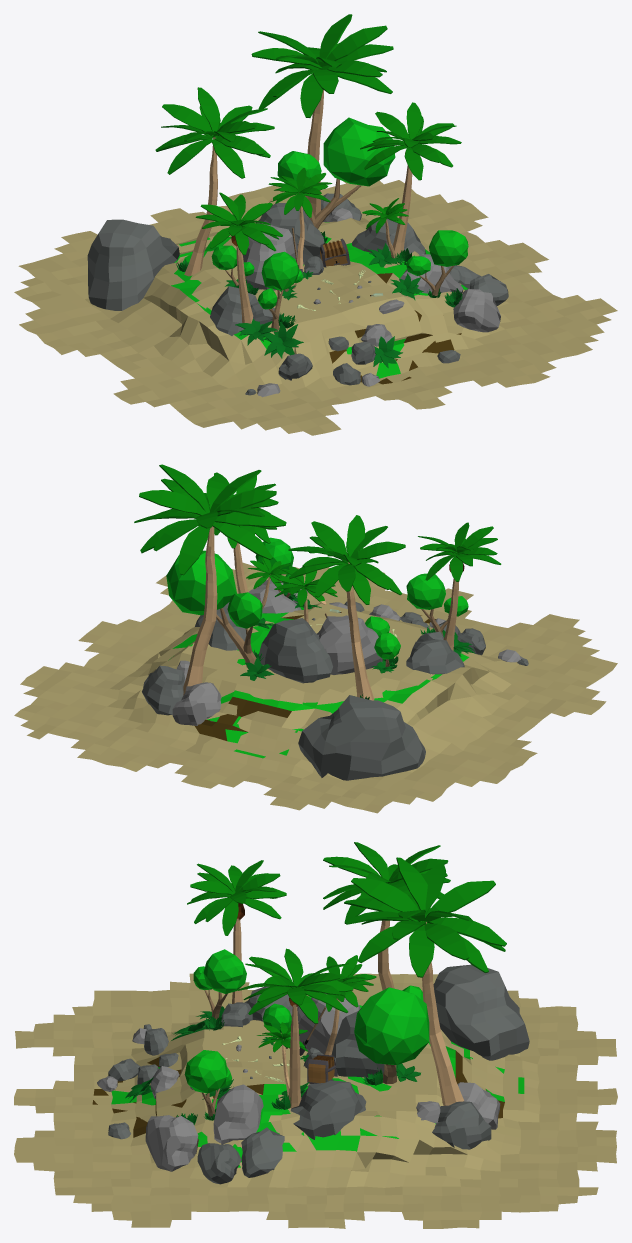
The model's file is island2.glb.
3 renders of one model, top to bottom at view 1: azimuth 30°, elevation 25°; view 2: azimuth 150°, elevation 25°; view 3: azimuth 270°, elevation 25°, orthographic. The views are drawn at different scales.
Parts seen in each view (by area): view 1: sea, palm3, Cube.007, palm4, fa.003, palm5, palm, palm2.001, fa.001, fa, Cube.009, Cube.004 (+10 smaller); view 2: sea, palm3, Cube.007, palm4, fa.003, Cube.004, palm, Cube.011, fa, Cube.006, Cube.003, Cube.002 (+8 smaller); view 3: sea, palm3, Cube.007, fa.003, palm5, palm, palm4, Cube.012, Cube.009, Cube.001, Cube.006, fa (+13 smaller).
Part boxes in pixels (x1=…): sea: x1=14, y1=180, x2=617, y2=435; palm3: x1=251, y1=14, x2=393, y2=216; Cube.007: x1=87, y1=219, x2=179, y2=310; palm4: x1=155, y1=87, x2=274, y2=276; fa.003: x1=277, y1=117, x2=395, y2=228; palm5: x1=360, y1=102, x2=461, y2=257; palm: x1=195, y1=192, x2=282, y2=323; palm2.001: x1=268, y1=168, x2=332, y2=270; fa.001: x1=406, y1=230, x2=468, y2=296; fa: x1=257, y1=251, x2=299, y2=331; Cube.009: x1=453, y1=289, x2=500, y2=332; Cube.004: x1=256, y1=203, x2=324, y2=264; sea: x1=14, y1=562, x2=617, y2=813; palm3: x1=134, y1=464, x2=286, y2=695; Cube.007: x1=298, y1=695, x2=425, y2=780; palm4: x1=288, y1=515, x2=405, y2=700; fa.003: x1=166, y1=550, x2=262, y2=667; Cube.004: x1=259, y1=618, x2=332, y2=683; palm: x1=418, y1=522, x2=501, y2=650; Cube.011: x1=317, y1=615, x2=382, y2=674; fa: x1=406, y1=573, x2=468, y2=635; Cube.006: x1=142, y1=665, x2=184, y2=715; Cube.003: x1=172, y1=682, x2=221, y2=725; Cube.002: x1=406, y1=639, x2=464, y2=674; sea: x1=14, y1=973, x2=617, y2=1228; palm3: x1=344, y1=857, x2=506, y2=1105; Cube.007: x1=433, y1=964, x2=529, y2=1060; fa.003: x1=354, y1=985, x2=429, y2=1084; palm5: x1=237, y1=948, x2=353, y2=1108; palm: x1=187, y1=860, x2=286, y2=1003; palm4: x1=323, y1=842, x2=450, y2=990; Cube.012: x1=290, y1=1080, x2=366, y2=1139; Cube.009: x1=145, y1=1115, x2=198, y2=1171; Cube.001: x1=213, y1=1084, x2=263, y2=1144; Cube.006: x1=432, y1=1101, x2=491, y2=1149; fa: x1=193, y1=949, x2=246, y2=1019.
Bounding box in the file's own units: 280 × 143 × 280.
